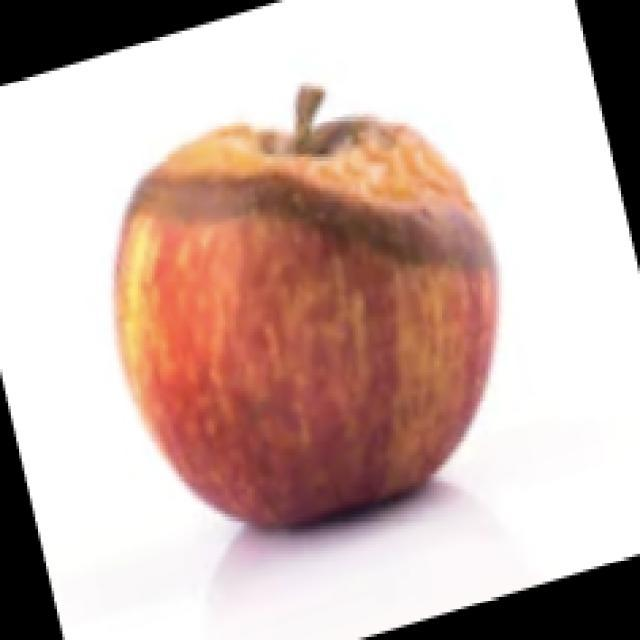Rotten: (125, 115, 508, 522)
